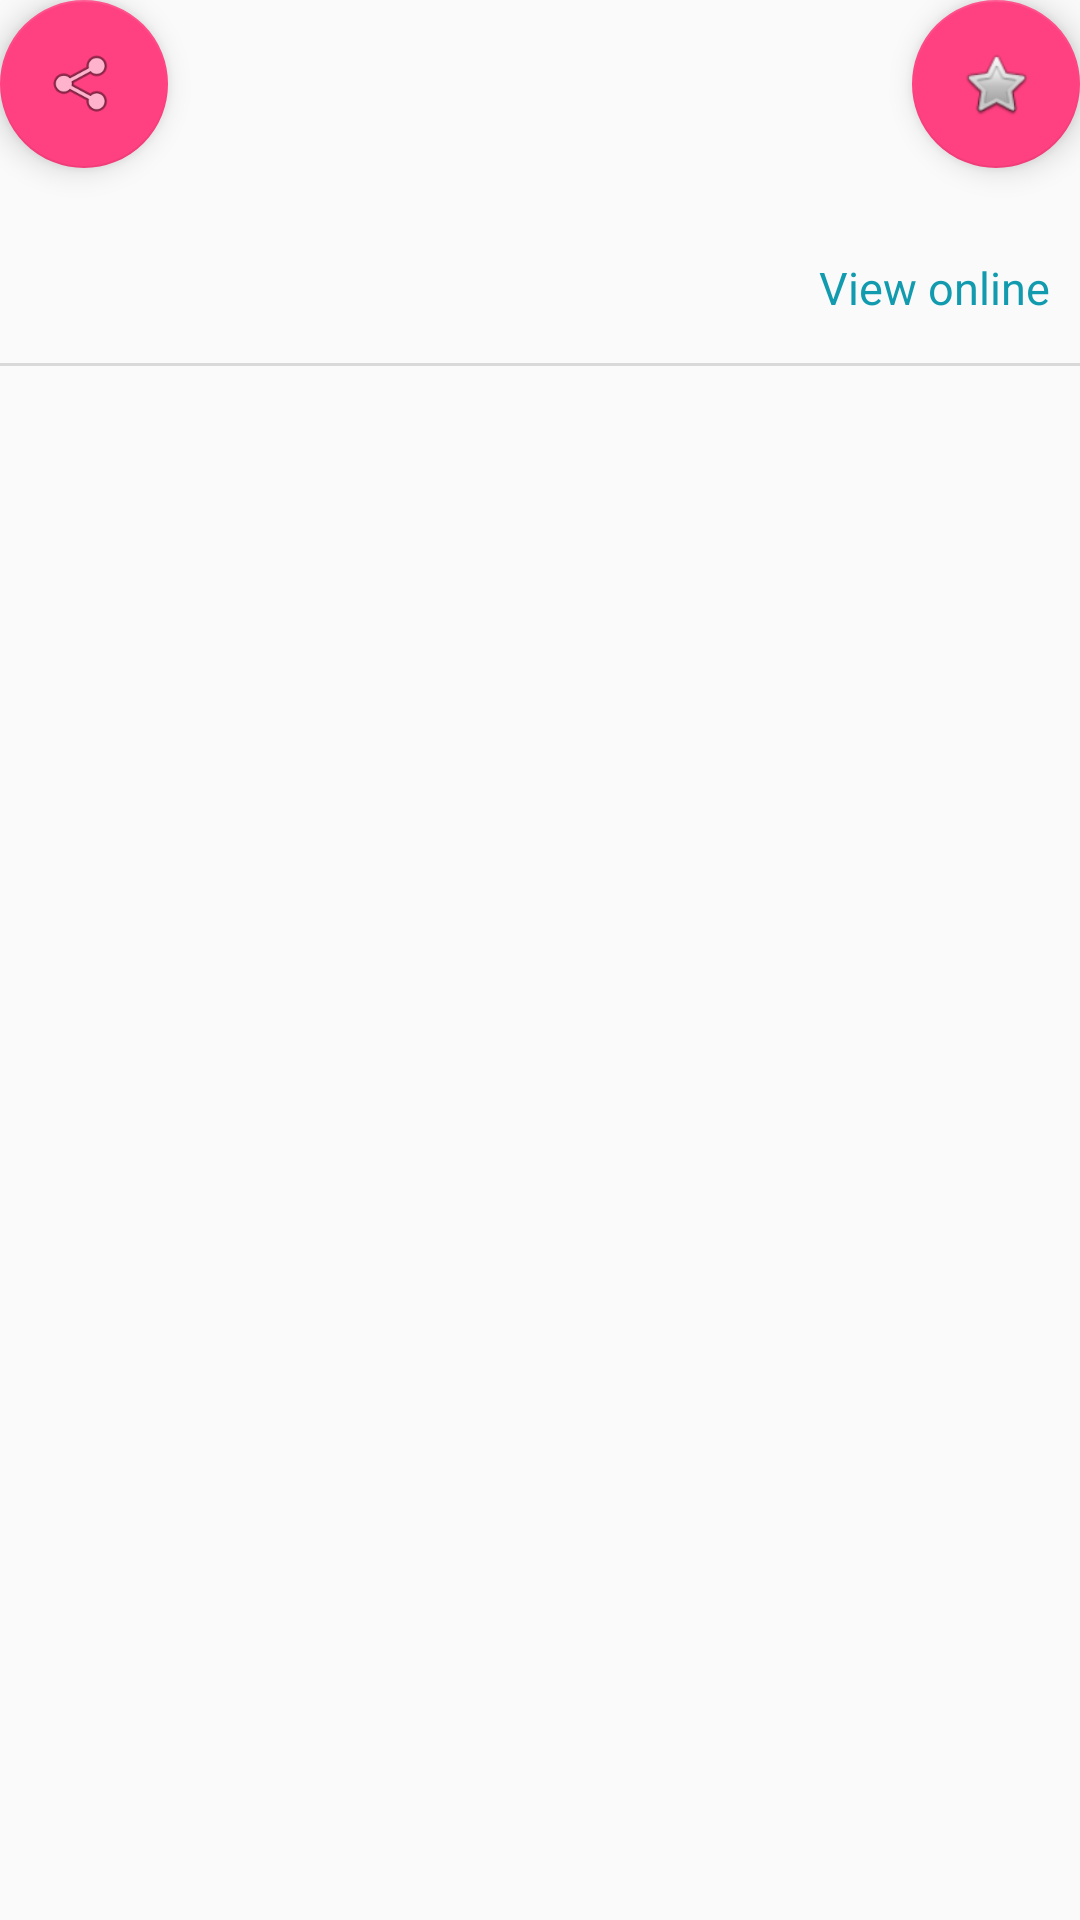

Locate icon controls on the screen. Image size 1080×1920, boxes as (x1, y1, x2, y2).
share: (0, 0, 168, 168)
star off: (912, 0, 1080, 168)
